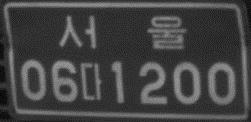0: (207, 61, 237, 107), (173, 60, 201, 105), (21, 58, 47, 102)
1: (109, 60, 127, 105)
2: (138, 60, 169, 106)
6: (50, 59, 77, 103)
다: (79, 61, 103, 102)
서울_D: (58, 13, 188, 50)
